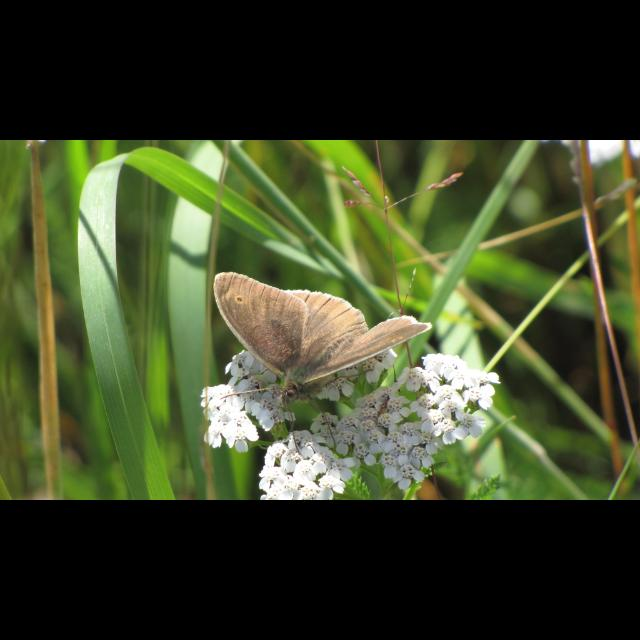Flower: (198, 346, 396, 460), (336, 352, 506, 482), (250, 426, 358, 500)
